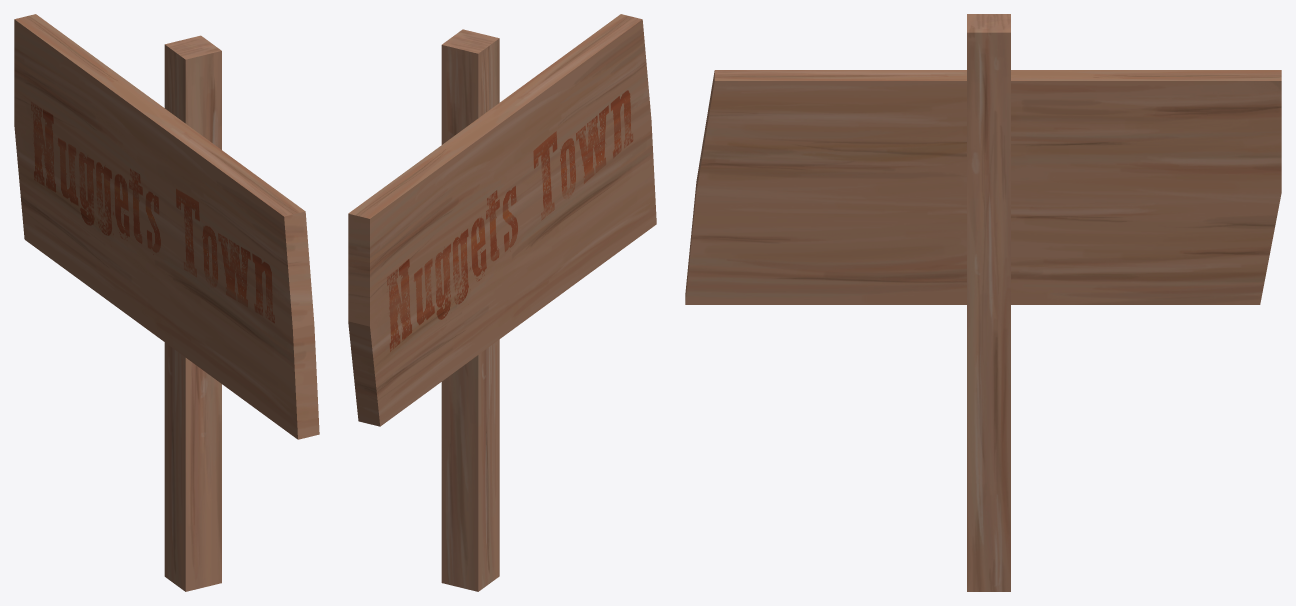
The model's file is nuggets town.FBX.
3 views of the same model, side by side, from view 1: azimuth 30°, elevation 25°; view 2: azimuth 150°, elevation 25°; view 3: azimuth 270°, elevation 25° (orthographic). The views are drawn at different scales.
Parts seen in each view (by area): view 1: Box001; view 2: Box001; view 3: Box001.
Boxes of the visible parts, <box> form: Box001: <box>14,14,319,591</box>; Box001: <box>348,14,656,591</box>; Box001: <box>685,14,1281,591</box>.
Bounding box in the file's own units: 41.73 × 367 × 354.
